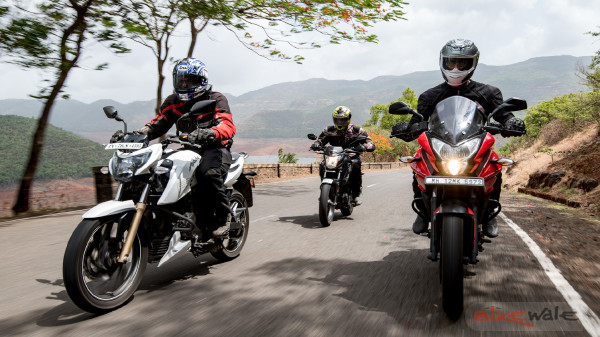helmet: (171, 54, 209, 104), (440, 35, 478, 85), (330, 104, 353, 130)
